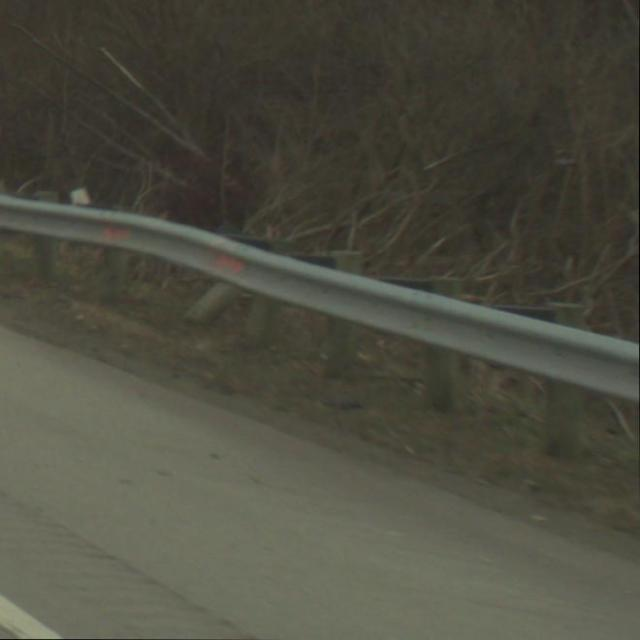Guard rail: (0, 182, 640, 485)
